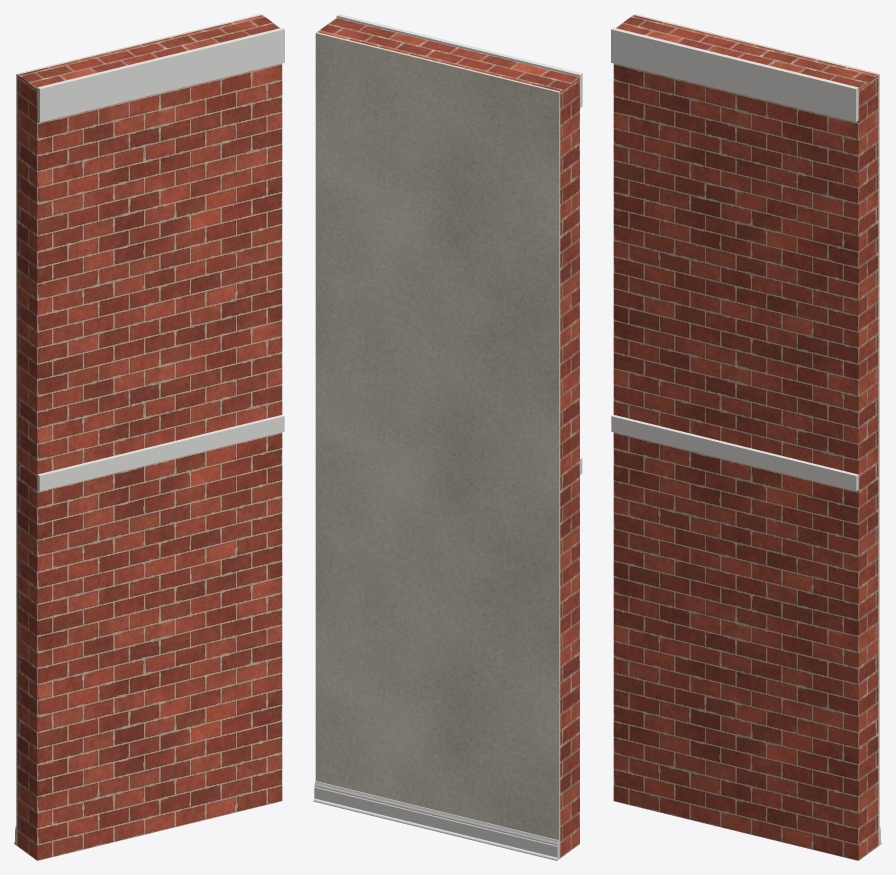
File: wall_hall_plain.glb
3 renders of one model, left to right at view 1: azimuth 30°, elevation 25°; view 2: azimuth 150°, elevation 25°; view 3: azimuth 330°, elevation 25°, orthographic.
Visible parts, largest first — view 1: wall_hall_plain_brick, wall_hall_plain_trim, wall_hall_plain_plaster; view 2: wall_hall_plain_plaster, wall_hall_plain_brick, molduras, wall_hall_plain_trim; view 3: wall_hall_plain_brick, wall_hall_plain_trim, wall_hall_plain_plaster.
Part boxes in pixels (x1,y1,x2,y2): wall_hall_plain_brick: (17,15,282,860); wall_hall_plain_trim: (37,27,284,491); wall_hall_plain_plaster: (16,14,261,845); wall_hall_plain_plaster: (315,32,560,858); wall_hall_plain_brick: (317,17,579,857); molduras: (313,781,558,860); wall_hall_plain_trim: (336,14,582,474); wall_hall_plain_brick: (613,15,878,860); wall_hall_plain_trim: (611,27,858,491); wall_hall_plain_plaster: (634,14,879,845).
Bounding box in the file's own units: 2 × 6.03 × 0.365.
3 materials, 2 textured.
